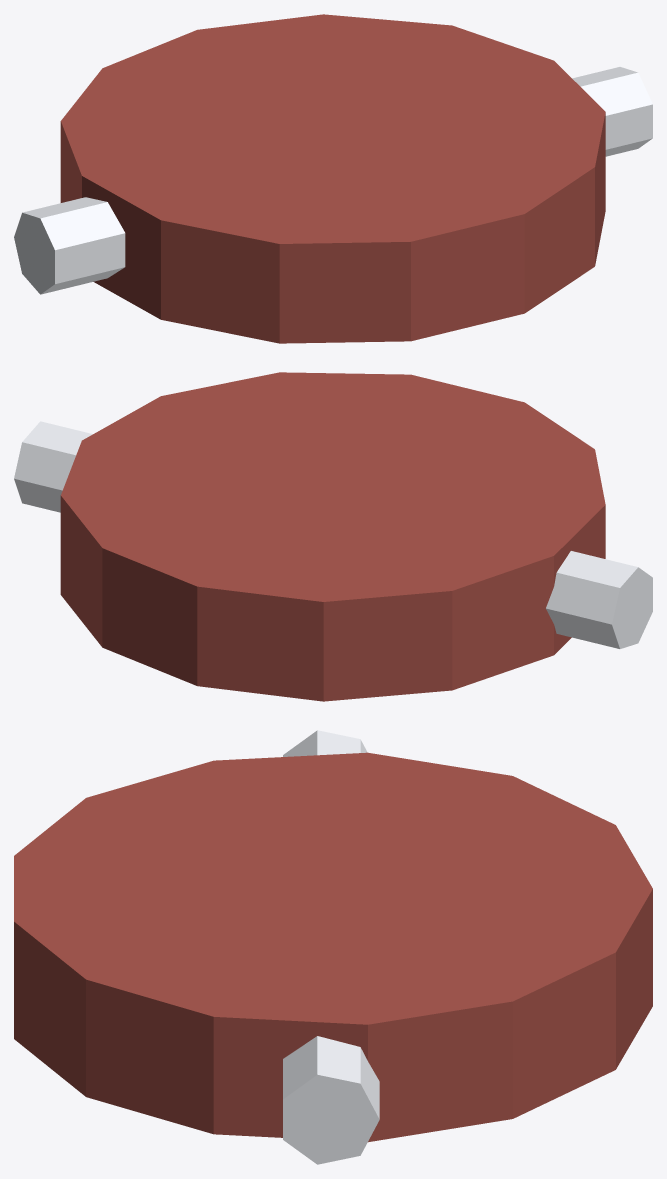
The model's file is peppermint.fbx.
3 renders of one model, top to bottom at view 1: azimuth 30°, elevation 25°; view 2: azimuth 150°, elevation 25°; view 3: azimuth 270°, elevation 25°, orthographic. The views are drawn at different scales.
Parts seen in each view (by area): view 1: peppermint; view 2: peppermint; view 3: peppermint.
Part boxes in pixels (left/top/right/bottom): peppermint: left=14, top=14, right=652, bottom=343; peppermint: left=14, top=372, right=652, bottom=701; peppermint: left=14, top=730, right=652, bottom=1164.
Bounding box in the file's own units: 70 × 11.14 × 54.87.
